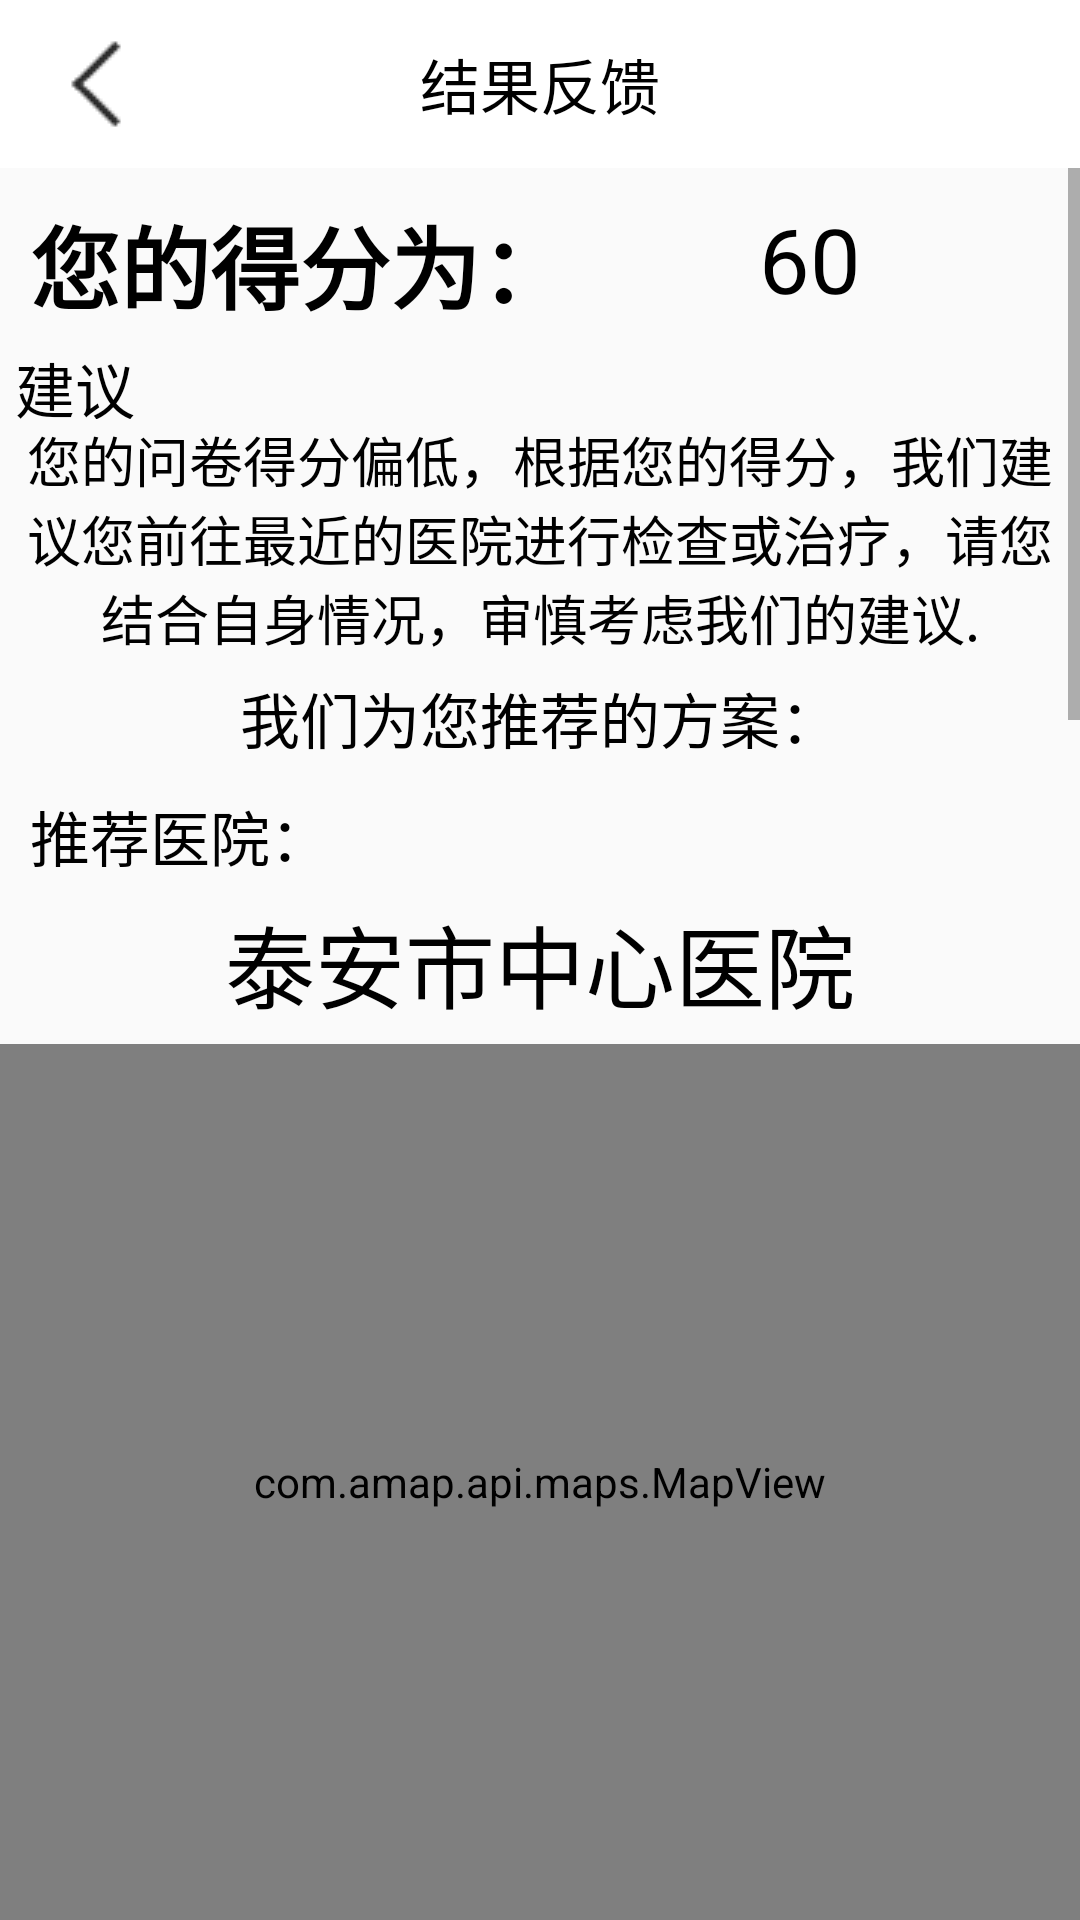

Named icons in this screenshot (1080px x 1920px) and their bounding boxes, (x1, y1, x2, y2):
back: (71, 41, 121, 127)
